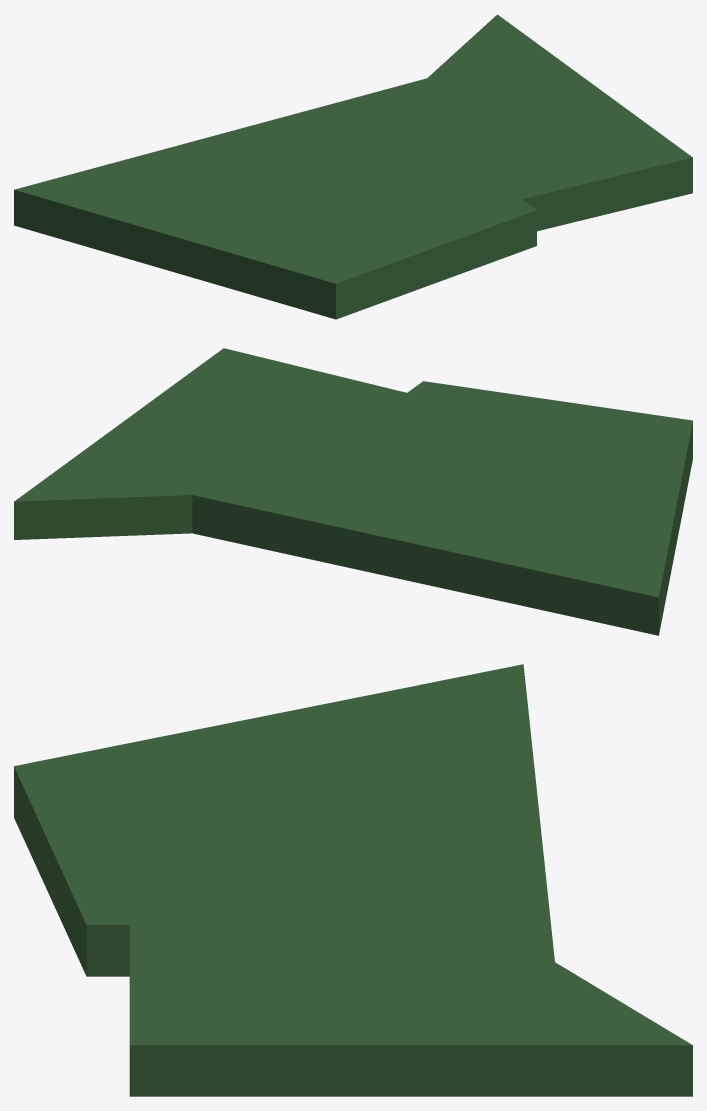
File: x_proval_00_8_1_rmstrd.fbx
3 views of the same model, one above another, from view 1: azimuth 30°, elevation 25°; view 2: azimuth 150°, elevation 25°; view 3: azimuth 270°, elevation 25° (orthographic). The views are drawn at different scales.
Visible parts, largest first — view 1: x_proval_00_8_1_rmstrd1; view 2: x_proval_00_8_1_rmstrd1; view 3: x_proval_00_8_1_rmstrd1.
Part boxes in pixels (<box>): x_proval_00_8_1_rmstrd1: <box>14,14,692,319</box>; x_proval_00_8_1_rmstrd1: <box>14,348,692,635</box>; x_proval_00_8_1_rmstrd1: <box>14,664,692,1096</box>.
Bounding box in the file's own units: 3.17 × 0.2 × 2.39.
